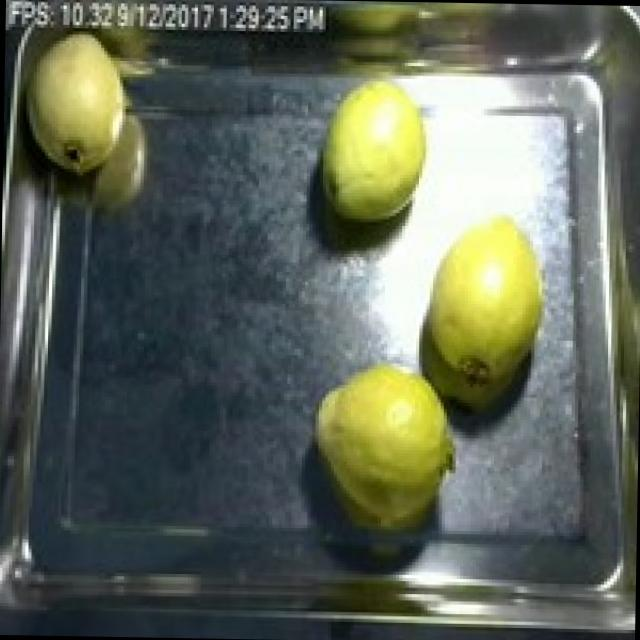Fruit: (411, 200, 559, 430), (304, 348, 470, 540), (2, 4, 162, 199), (309, 64, 446, 236)
